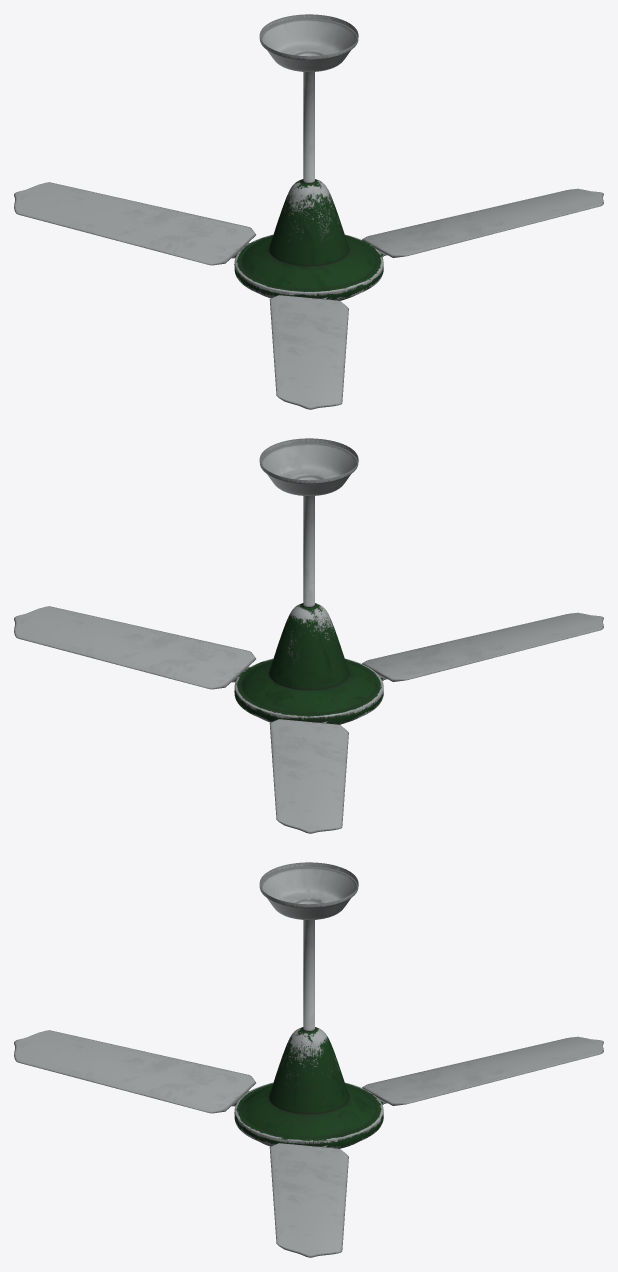
The model's file is ventildador_de_teto_ceiling_fan.glb.
3 renders of one model, top to bottom at view 1: azimuth 30°, elevation 25°; view 2: azimuth 150°, elevation 25°; view 3: azimuth 270°, elevation 25°, orthographic.
Visible parts, largest first — view 1: Ventilador, Base; view 2: Ventilador, Base; view 3: Ventilador, Base.
Part boxes in pixels (x1,y1,x2,y2): Ventilador: [14, 182, 603, 409]; Base: [259, 14, 358, 266]; Ventilador: [14, 606, 603, 833]; Base: [259, 438, 358, 690]; Ventilador: [14, 1030, 603, 1257]; Base: [259, 862, 358, 1114].
Size of the model in its own units: 76.17 by 40.61 by 85.17.
Materials: 1 (1 with a texture image).
